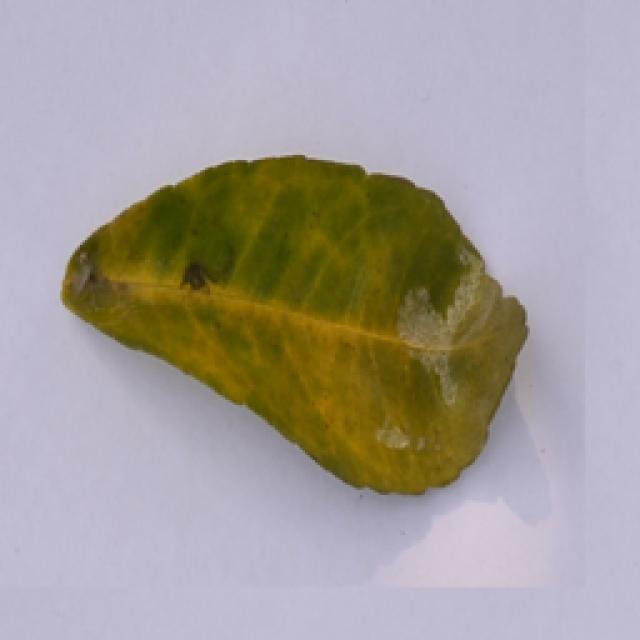greening: (56, 144, 546, 500)
